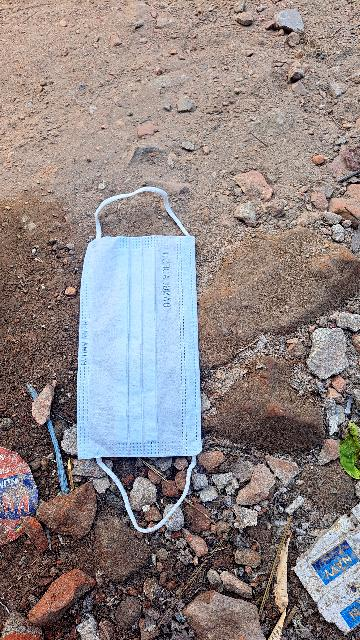mask: (71, 243, 208, 461)
